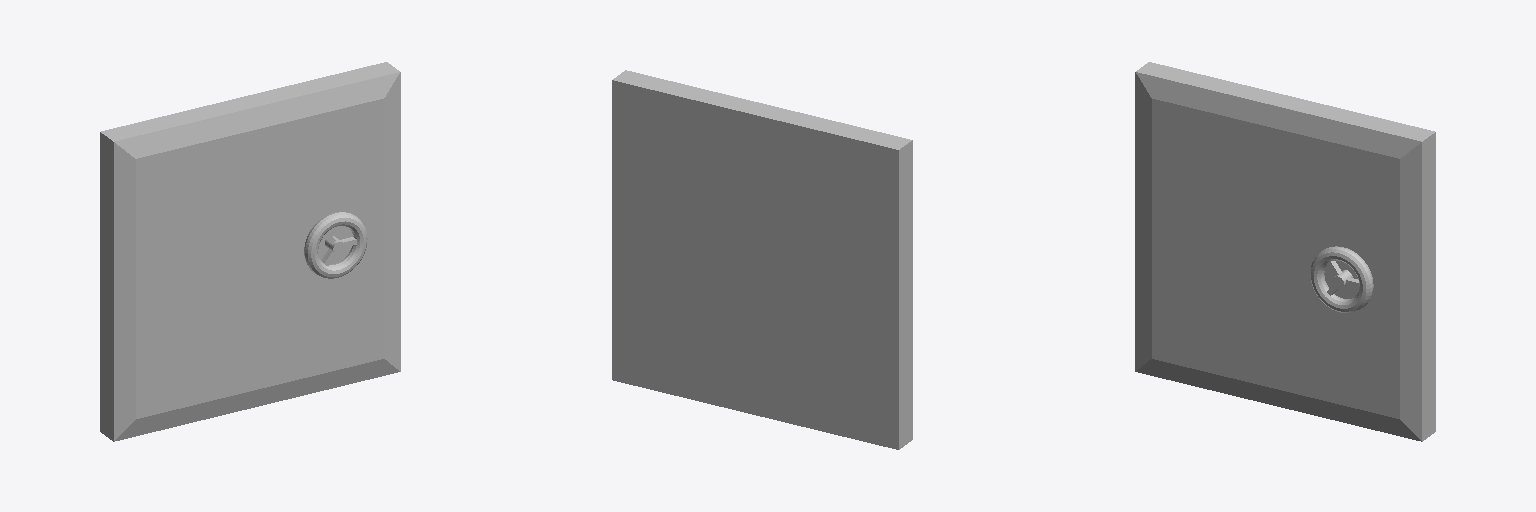
The model's file is safe_door.obj.
The picture shows the model from 3 angles: view 1: azimuth 30°, elevation 25°; view 2: azimuth 150°, elevation 25°; view 3: azimuth 330°, elevation 25°; orthographic projection.
Visible parts, largest first — view 1: Cylinder; view 2: Cylinder; view 3: Cylinder.
Boxes of the visible parts, x1=… form: Cylinder: x1=100, y1=62, x2=400, y2=441; Cylinder: x1=612, y1=70, x2=912, y2=449; Cylinder: x1=1135, y1=62, x2=1435, y2=441.
Size of the model in its own units: 1.85 by 1.85 by 0.2806.